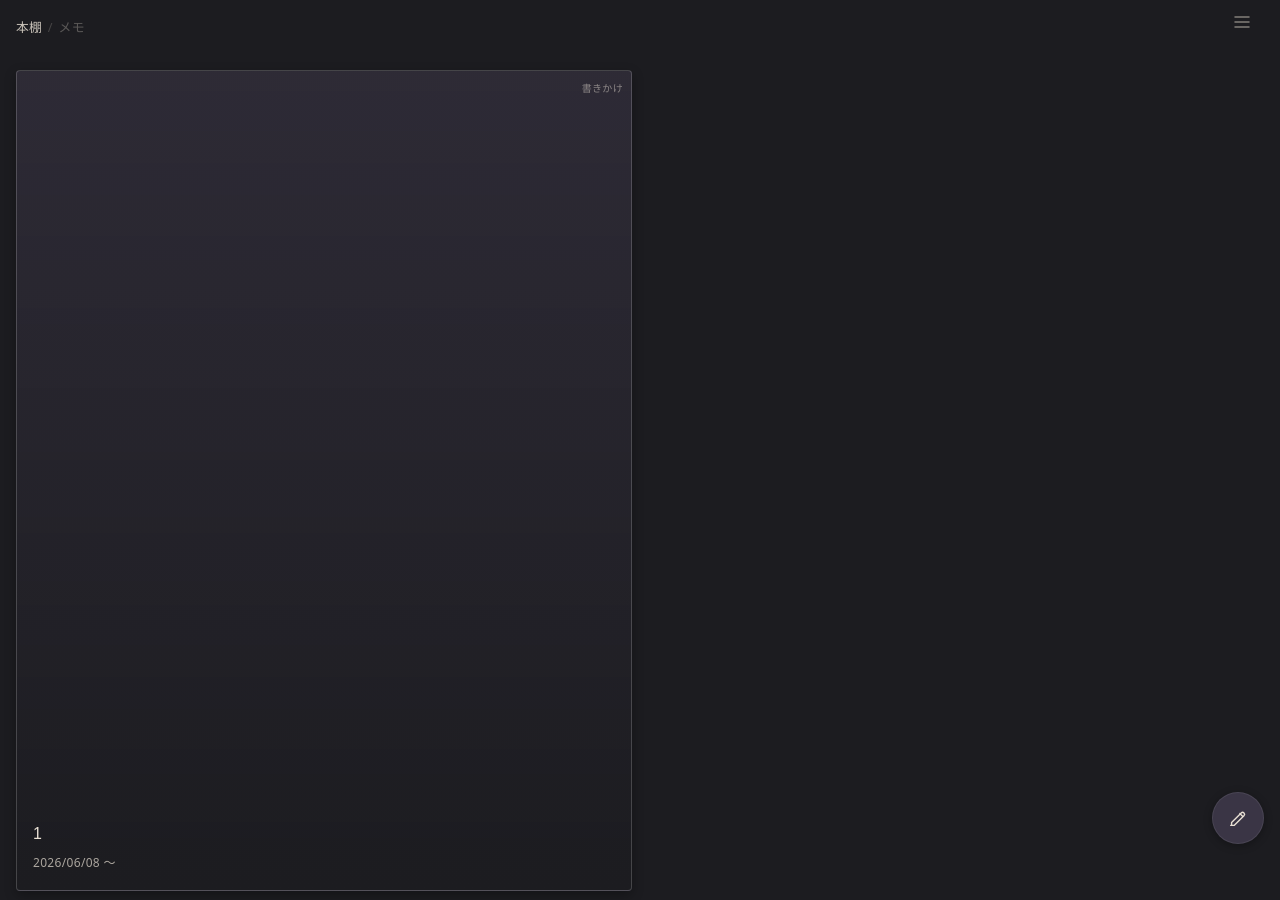
BookshelfPage calendar modal › × ボタンで dialog が閉じる
Check: the link with aria-label "ノート 1" is shown, box [16,70,632,891]
Click the button named "メニューを開く": [1242, 22] box [1220,0,1264,44]
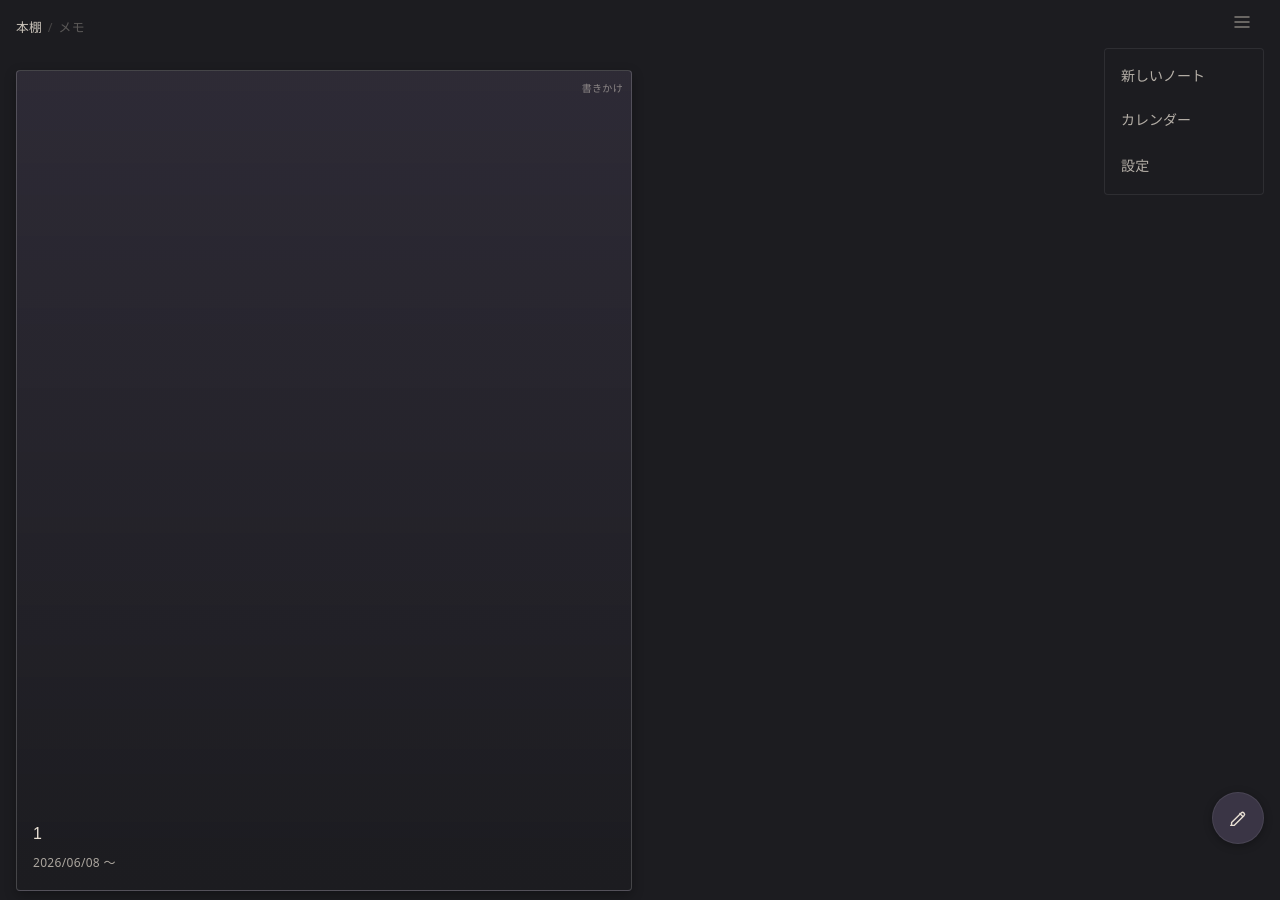
Click the menu item "カレンダー": [1184, 119] box [1105,97,1263,141]
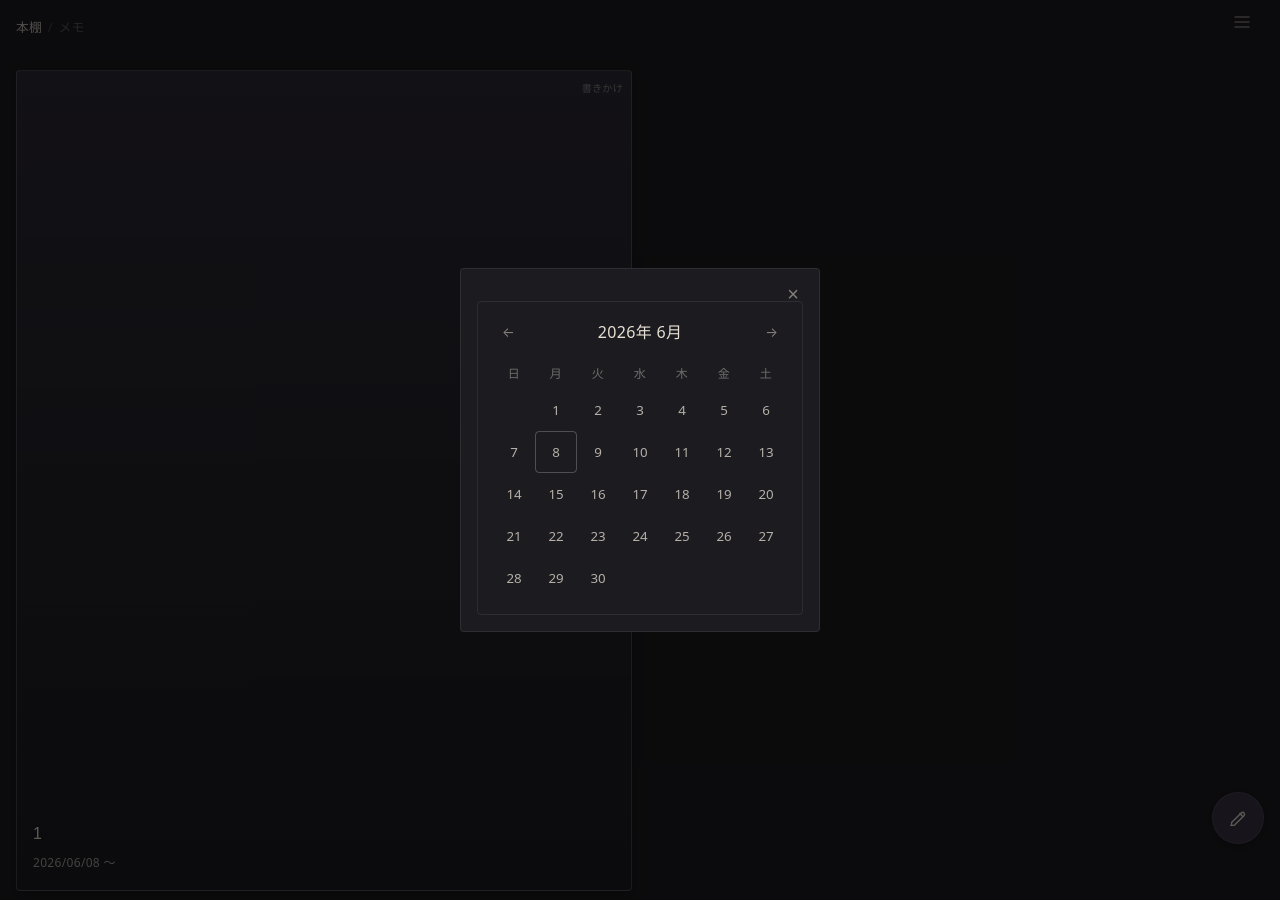
Click the button named "カレンダーを閉じる": [793, 295] box [771,273,815,317]
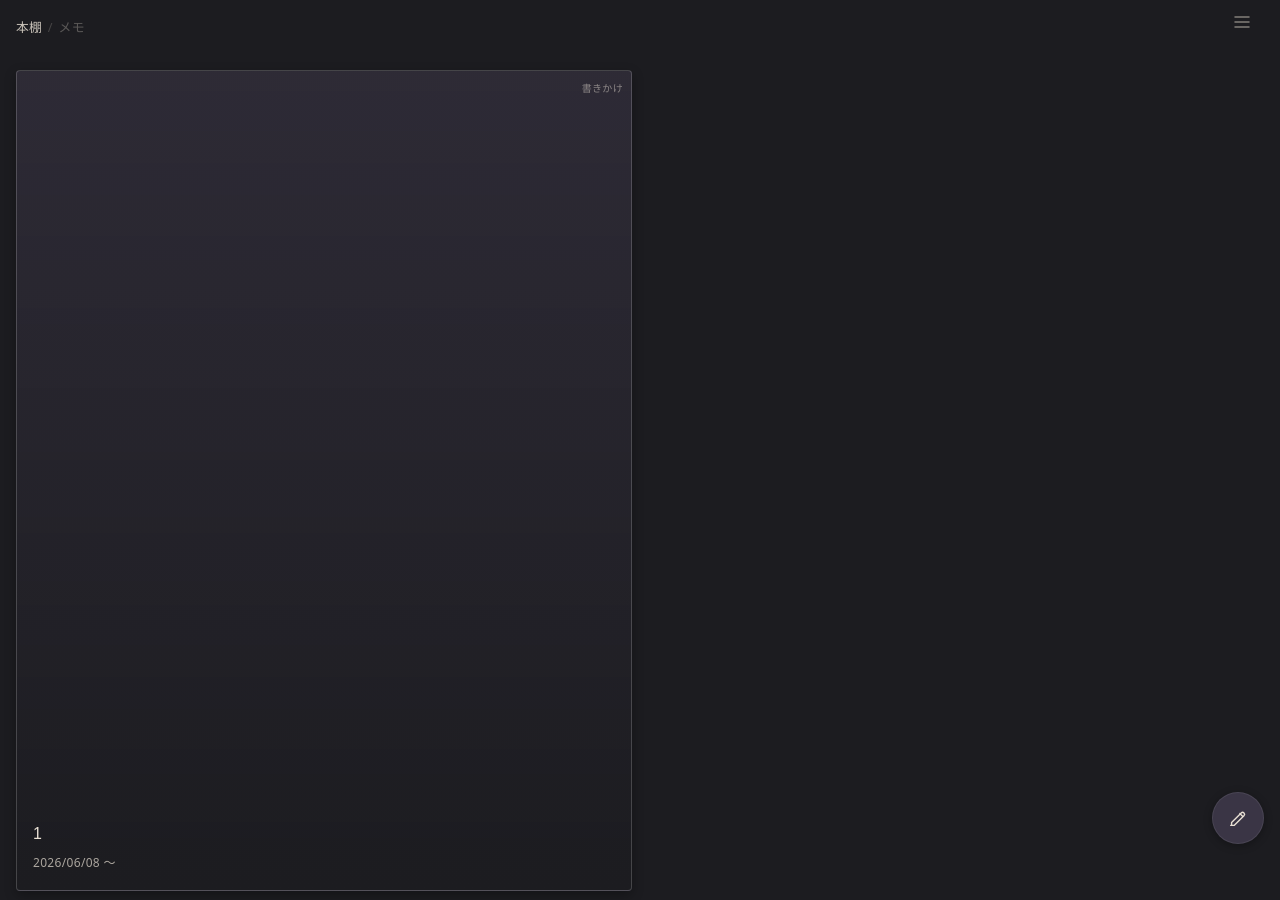
Check: the dialog is gone
